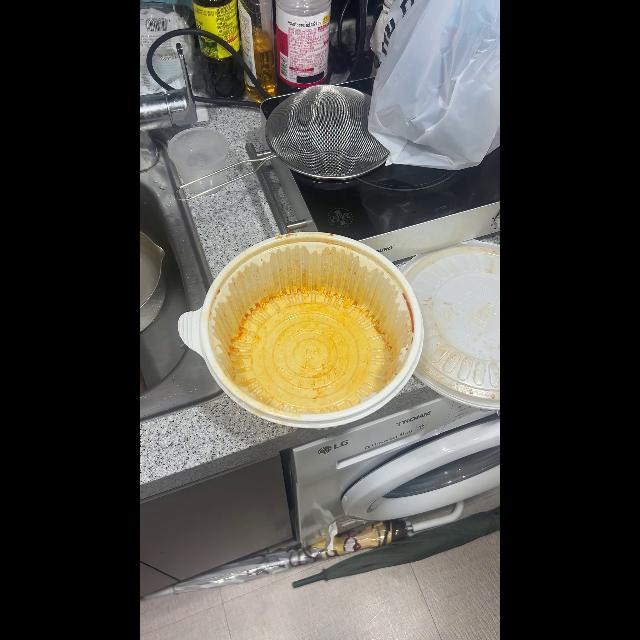dirty: (205, 234, 418, 422)
